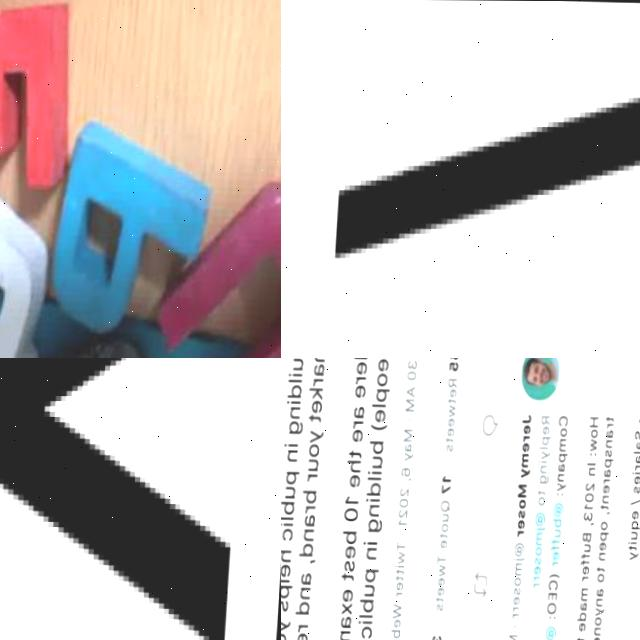1: (447, 361, 457, 371)
2: (401, 467, 411, 477)
3: (441, 484, 451, 494)
A: (352, 405, 365, 419), (301, 571, 313, 586), (312, 364, 325, 376), (341, 615, 353, 627), (305, 514, 315, 527), (405, 387, 415, 397), (605, 428, 613, 438), (603, 467, 611, 477), (596, 586, 604, 596), (557, 463, 566, 471), (404, 443, 412, 451), (581, 602, 589, 610), (635, 438, 640, 448), (634, 454, 640, 462)
B: (367, 440, 384, 454), (302, 489, 317, 504), (342, 530, 357, 544), (360, 599, 375, 613), (281, 500, 294, 514), (392, 629, 402, 639), (582, 532, 592, 542), (553, 518, 561, 526)
C: (282, 527, 293, 541), (363, 625, 373, 639), (557, 414, 567, 426), (549, 579, 559, 591)
D: (299, 543, 314, 557), (286, 385, 301, 397), (296, 602, 311, 614), (367, 483, 381, 495), (578, 611, 588, 621)
E: (0, 0, 84, 207), (348, 474, 361, 488), (375, 358, 388, 370), (355, 361, 366, 375), (311, 399, 321, 413), (354, 384, 364, 398), (343, 589, 354, 601), (374, 409, 385, 421), (281, 564, 291, 576), (352, 429, 362, 441), (346, 545, 356, 557), (548, 591, 558, 601), (394, 618, 403, 628), (522, 424, 531, 434), (579, 622, 588, 632), (631, 509, 640, 519), (298, 633, 310, 640), (448, 388, 456, 398), (446, 417, 454, 427), (446, 426, 454, 436), (521, 442, 529, 452), (602, 483, 610, 493), (438, 577, 447, 585), (517, 520, 526, 528), (552, 551, 561, 559), (397, 582, 405, 590), (440, 540, 448, 548), (438, 587, 446, 595), (542, 425, 550, 433), (534, 565, 542, 573), (599, 542, 607, 550), (514, 596, 521, 604), (583, 566, 590, 574), (633, 474, 640, 482), (594, 635, 602, 640)
F: (551, 538, 561, 543), (551, 545, 561, 550), (581, 553, 591, 558), (581, 559, 589, 564)
G: (368, 517, 383, 531), (288, 420, 302, 434), (539, 473, 549, 483)
H: (346, 460, 361, 472), (281, 549, 292, 561), (588, 415, 598, 427)
I: (366, 497, 380, 501), (287, 372, 301, 375), (286, 400, 300, 403), (284, 443, 298, 446), (367, 471, 381, 474), (364, 541, 378, 544), (360, 620, 374, 623), (281, 522, 294, 525), (627, 540, 638, 543), (396, 565, 406, 568), (538, 460, 548, 463), (586, 462, 596, 465), (631, 470, 640, 473)
J: (521, 414, 531, 422), (534, 526, 547, 530), (513, 557, 525, 560), (545, 639, 557, 640)
K: (307, 388, 322, 400)
L: (371, 403, 385, 407), (288, 378, 302, 381), (367, 476, 381, 479), (360, 614, 374, 617), (281, 516, 294, 519), (538, 445, 548, 448), (281, 579, 290, 582), (633, 450, 640, 451)
M: (402, 428, 413, 442), (517, 483, 528, 497), (404, 398, 414, 410), (521, 452, 529, 466), (559, 437, 567, 451), (580, 588, 589, 600), (341, 630, 351, 640), (536, 531, 543, 545), (516, 561, 522, 575), (509, 633, 519, 640)
N: (304, 528, 314, 541), (290, 406, 300, 418), (301, 587, 311, 599), (369, 504, 379, 516), (367, 547, 377, 559), (287, 449, 297, 461), (587, 467, 596, 475), (601, 495, 610, 503), (598, 552, 607, 560), (539, 464, 548, 472), (556, 473, 564, 481), (597, 597, 603, 607), (605, 439, 612, 447), (595, 626, 602, 634)
O: (308, 443, 319, 458), (376, 372, 387, 386), (547, 601, 558, 613), (514, 575, 523, 585), (441, 522, 449, 532), (518, 498, 526, 508), (535, 545, 543, 555), (559, 426, 567, 436), (589, 428, 597, 438), (600, 521, 608, 529), (595, 616, 603, 624), (539, 495, 545, 505), (281, 632, 287, 640), (598, 573, 604, 581)
P: (54, 120, 219, 341), (366, 569, 380, 583), (285, 471, 300, 483), (375, 388, 389, 400), (281, 585, 293, 597), (557, 452, 568, 462), (541, 436, 551, 444), (599, 532, 609, 540), (604, 458, 612, 466)
Q: (0, 189, 62, 358), (440, 500, 450, 512), (631, 519, 640, 527)
R: (446, 378, 457, 388), (540, 414, 550, 424), (305, 505, 316, 514), (299, 624, 310, 633), (307, 473, 317, 482), (312, 378, 323, 386), (352, 420, 363, 428), (355, 376, 365, 384), (522, 435, 530, 441), (517, 530, 525, 536), (605, 423, 613, 428), (514, 606, 520, 612), (534, 582, 541, 587), (397, 593, 403, 598), (513, 613, 519, 618), (535, 575, 541, 580), (553, 561, 559, 566), (583, 576, 589, 581), (603, 478, 609, 483), (635, 463, 640, 469)
S: (345, 559, 355, 571), (281, 599, 289, 611), (513, 586, 521, 596), (603, 449, 612, 457), (633, 429, 640, 439), (445, 444, 453, 452), (436, 603, 444, 611), (518, 509, 526, 517), (535, 556, 543, 564), (632, 484, 640, 492)
T: (307, 413, 321, 422), (347, 449, 362, 457), (341, 572, 355, 580), (437, 554, 448, 564), (397, 541, 407, 551), (597, 564, 605, 572), (444, 437, 453, 443), (536, 490, 546, 495), (397, 568, 405, 574), (439, 532, 447, 538), (396, 575, 404, 580), (446, 398, 454, 403), (436, 597, 444, 602), (605, 416, 613, 421), (600, 503, 608, 508), (629, 544, 637, 549), (578, 636, 586, 640)
U: (302, 57, 640, 358), (147, 190, 281, 358), (291, 358, 302, 370), (308, 458, 318, 471), (285, 486, 295, 498), (372, 456, 382, 468), (365, 583, 375, 595), (553, 528, 561, 538), (441, 514, 449, 522), (583, 544, 591, 552), (630, 531, 638, 539)
W: (394, 602, 404, 618), (398, 550, 407, 564), (447, 403, 455, 417), (439, 563, 447, 577), (589, 438, 598, 450)
X: (0, 358, 259, 640), (343, 602, 353, 614)
Y: (309, 429, 323, 443), (281, 618, 292, 632), (520, 468, 531, 478), (629, 550, 640, 560), (556, 482, 567, 491), (403, 452, 414, 460), (595, 607, 606, 615), (540, 450, 550, 458)
